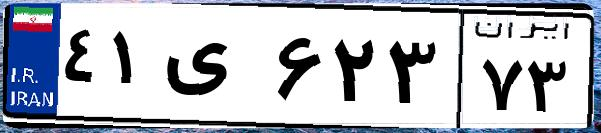1: (110, 28, 158, 98)
2: (330, 28, 385, 110)
3: (385, 28, 445, 110), (525, 38, 570, 115)
4: (57, 26, 110, 100)
6: (270, 28, 330, 110)
7: (475, 38, 525, 113)
ی: (158, 20, 270, 120)
